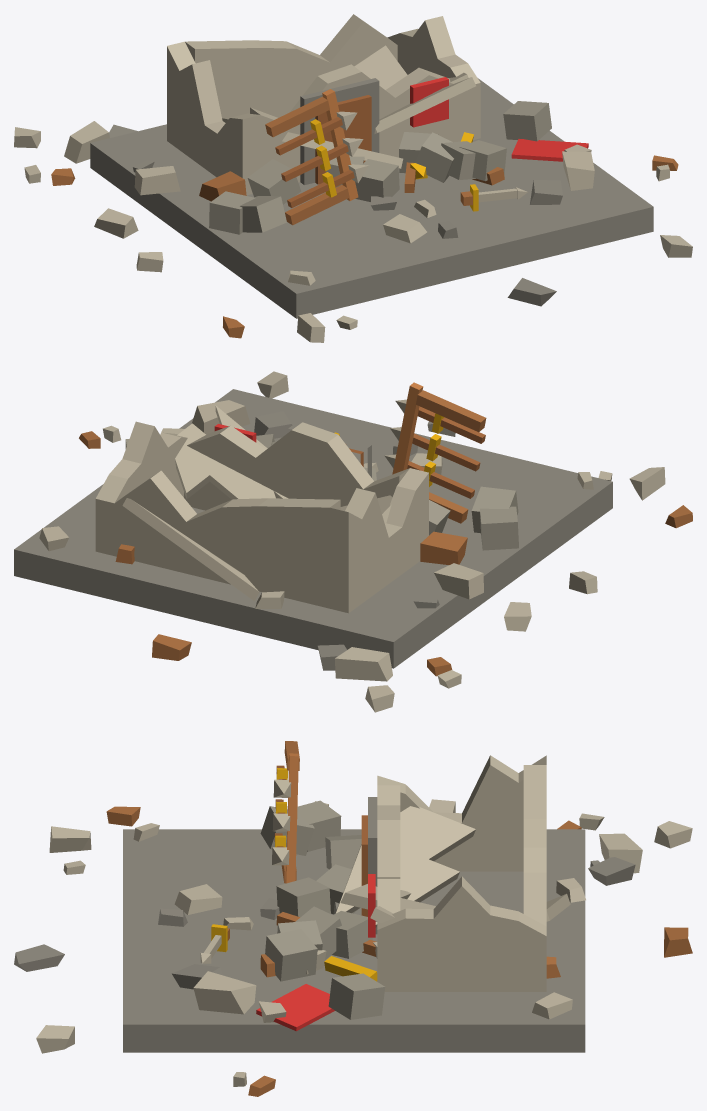
Rendered from barracks_t1_v2_dmg2.glb.
3 renders of one model, top to bottom at view 1: azimuth 30°, elevation 25°; view 2: azimuth 150°, elevation 25°; view 3: azimuth 270°, elevation 25°, orthographic. The views are drawn at different scales.
Visible parts, largest first — view 1: barracks_t1_v2_dmg2; view 2: barracks_t1_v2_dmg2; view 3: barracks_t1_v2_dmg2.
Boxes of the visible parts, left/top/right/bottom form: barracks_t1_v2_dmg2: left=14, top=14, right=692, bottom=342; barracks_t1_v2_dmg2: left=14, top=371, right=692, bottom=712; barracks_t1_v2_dmg2: left=14, top=741, right=692, bottom=1096.
Bounding box in the file's own units: 0.8648 × 0.2332 × 0.8808.
1 material, 1 textured.
